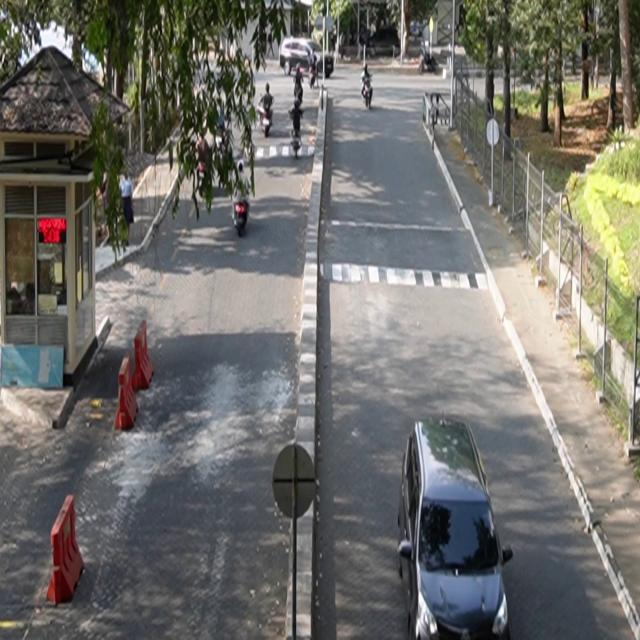car: (398, 416, 515, 640)
